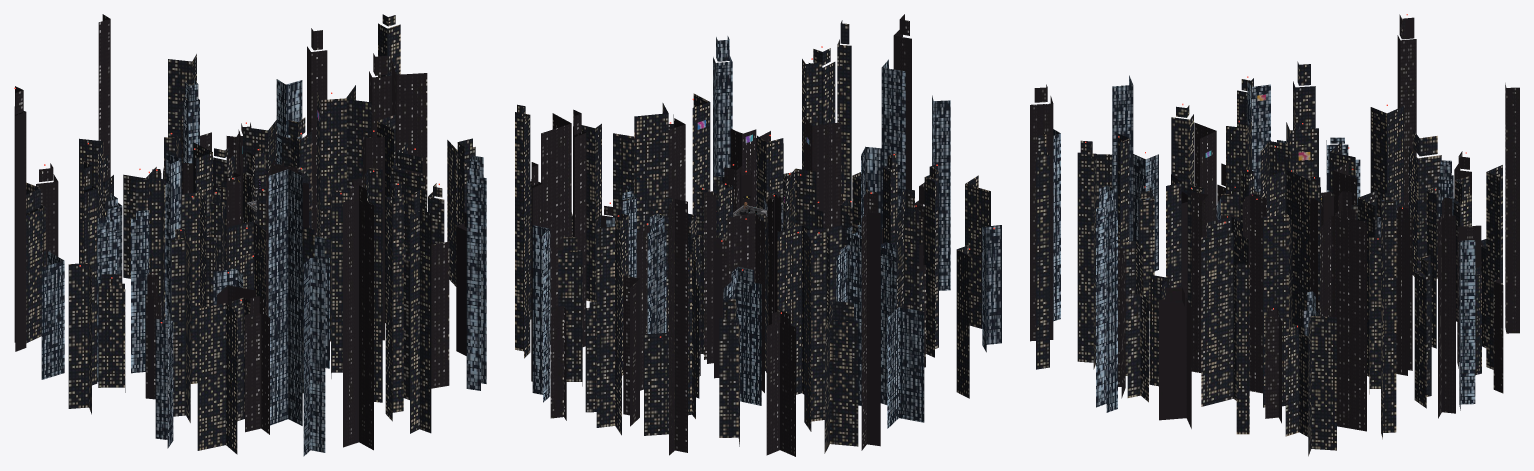
File: cyber.glb
3 renders of one model, left to right at view 1: azimuth 30°, elevation 25°; view 2: azimuth 150°, elevation 25°; view 3: azimuth 270°, elevation 25°, orthographic. The views are drawn at different scales.
Visible parts, largest first — view 1: towers; view 2: towers; view 3: towers.
Boxes of the visible parts, box(x1,y1,x2,y2) form: towers: box(14, 14, 486, 456); towers: box(515, 14, 1001, 456); towers: box(1030, 14, 1519, 456).
Size of what is drawn, in the model's own units: 442 by 254 by 450.
Materials: 13 (4 with a texture image).
